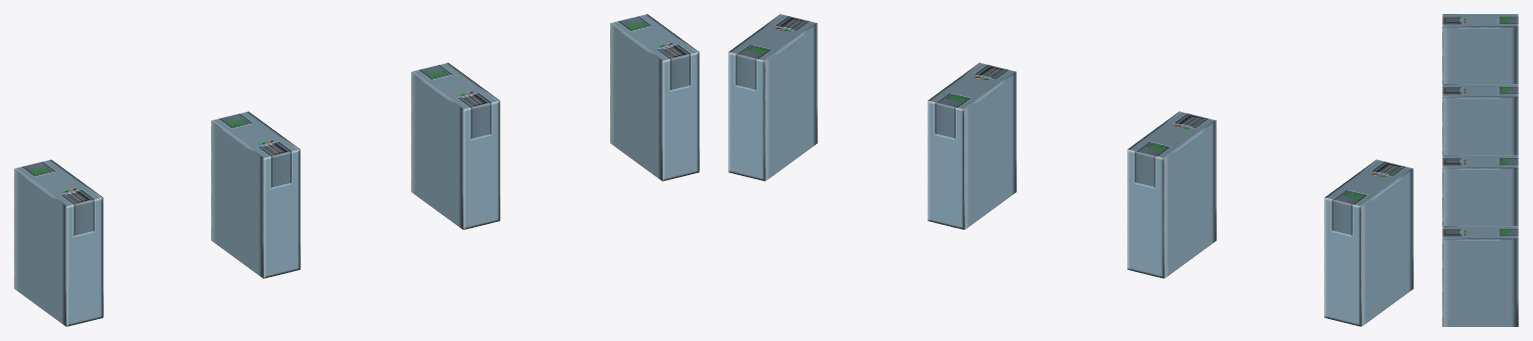
File: ticketgate02.glb
The picture shows the model from 3 angles, left to right: view 1: azimuth 30°, elevation 25°; view 2: azimuth 150°, elevation 25°; view 3: azimuth 270°, elevation 25°; orthographic projection. The views are drawn at different scales.
Parts seen in each view (by area): view 1: ticketgate02; view 2: ticketgate02; view 3: ticketgate02.
Boxes of the visible parts, box(x1,y1,x2,y2) form: ticketgate02: box(14, 14, 699, 326); ticketgate02: box(728, 14, 1413, 326); ticketgate02: box(1442, 14, 1518, 326).
Bounding box in the file's own units: 1332 × 242 × 190.
Materials: 1 (1 with a texture image).
